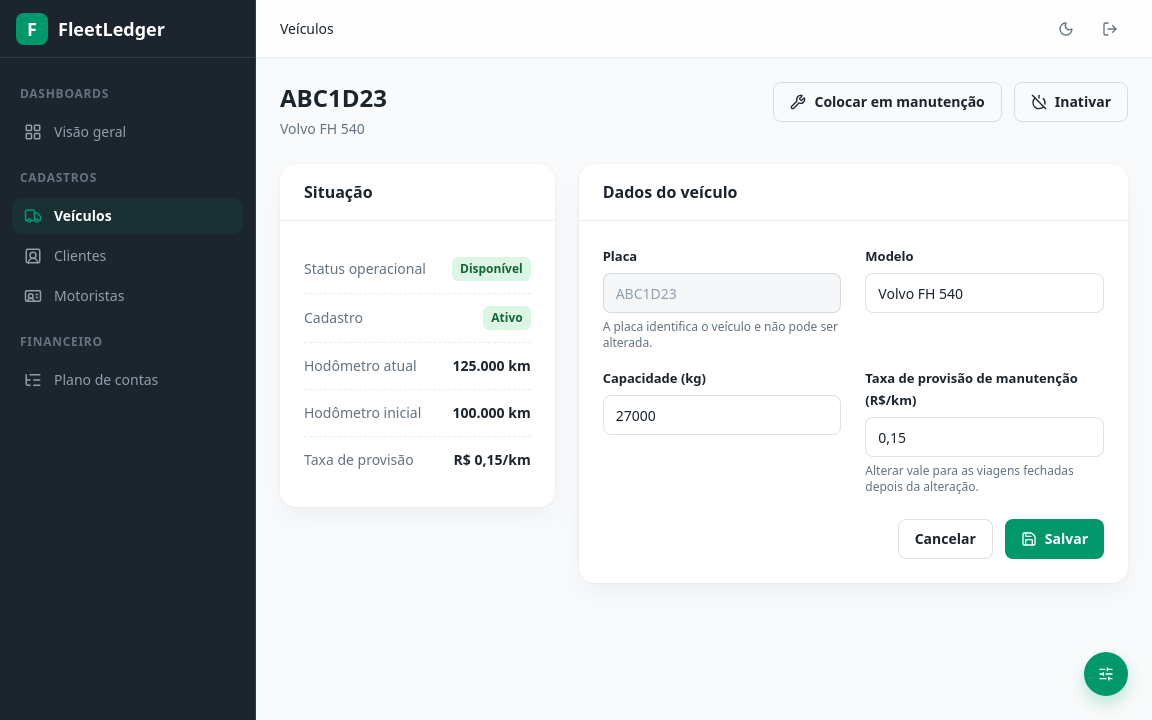
Test case: VehicleDetailPage › saves only the editable fields
Step 1. Replace the text in the field labelled "Modelo" with "Scania R 450" → (985, 293), box [865,273,1104,313]
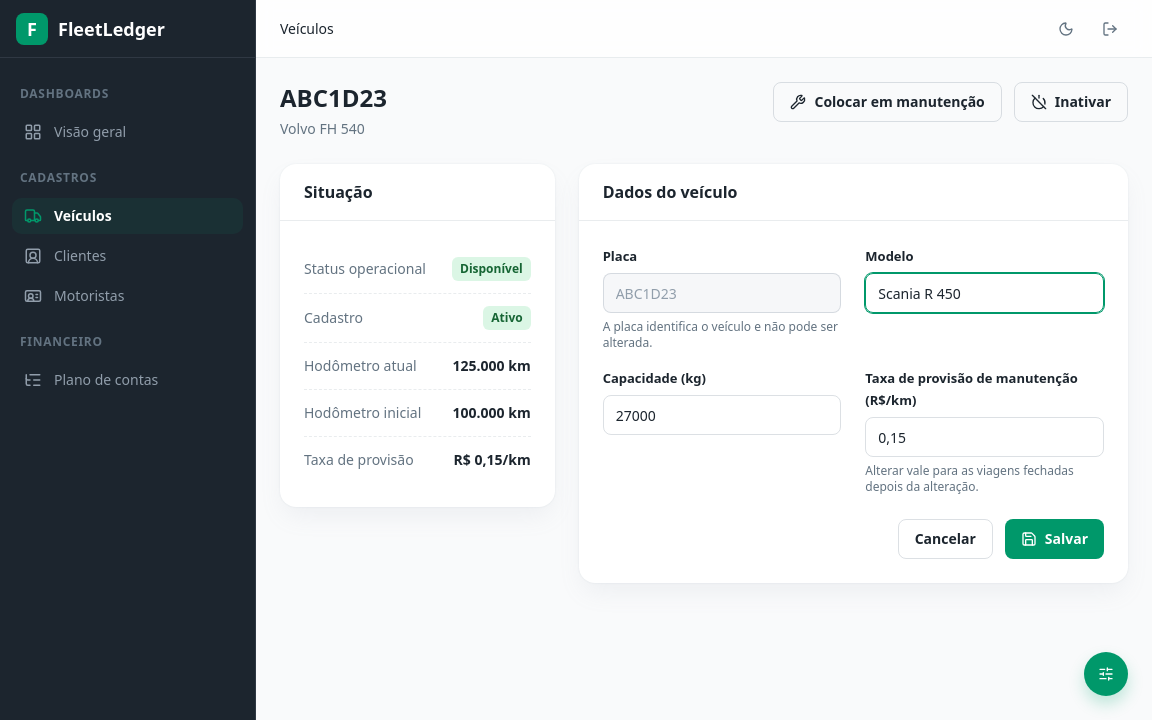
Step 2. Click the button "Salvar" → (1054, 539), box [1005,519,1104,559]
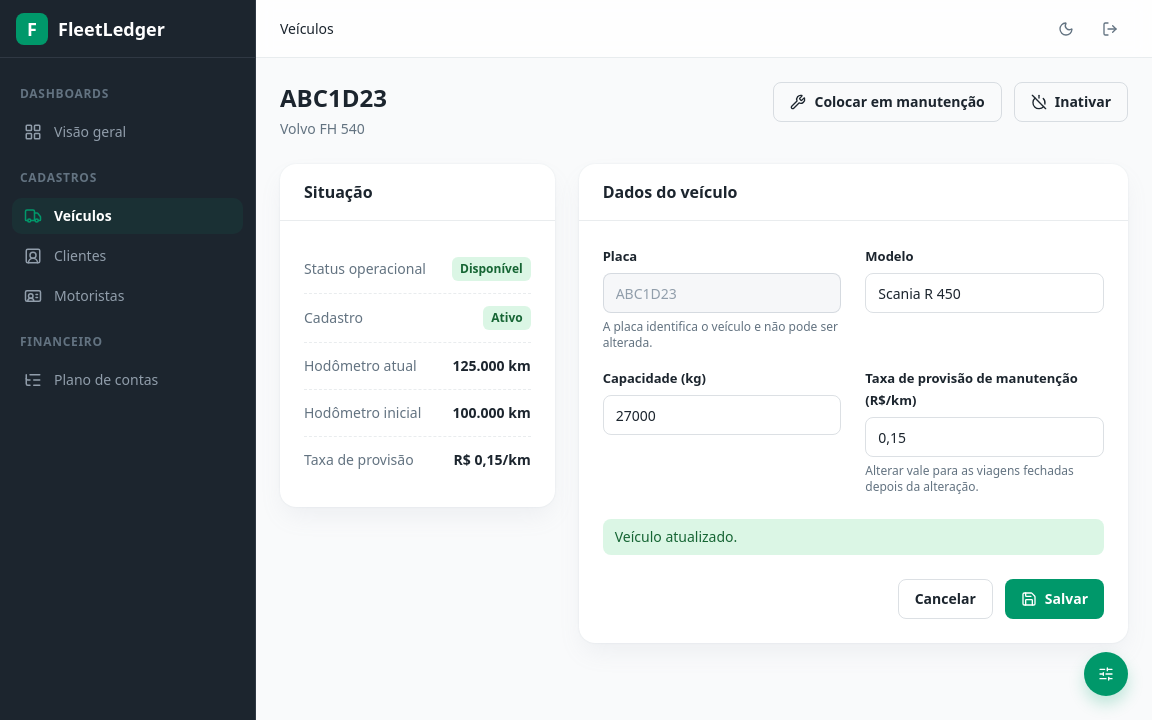
Now the message reads "Veículo atualizado.", box [615,527,737,546]
